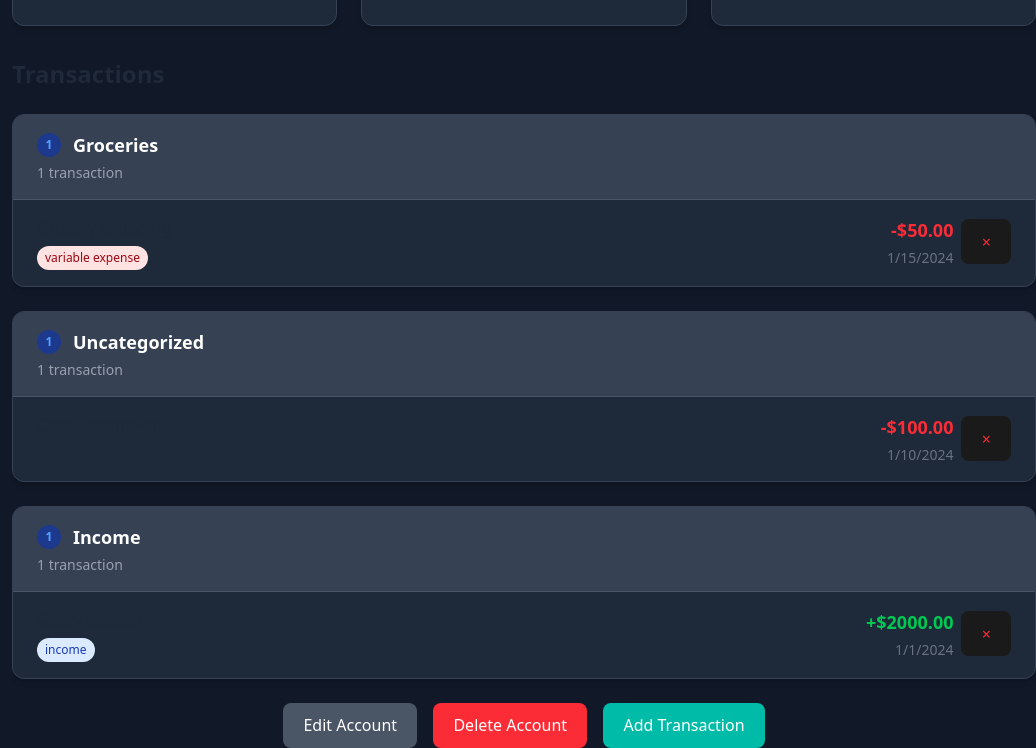
Test case: Account Component › toggles edit form when Edit Account button is clicked
(page scrolled)
Click the button "Edit Account" at (350, 725), box [283,702,417,747]
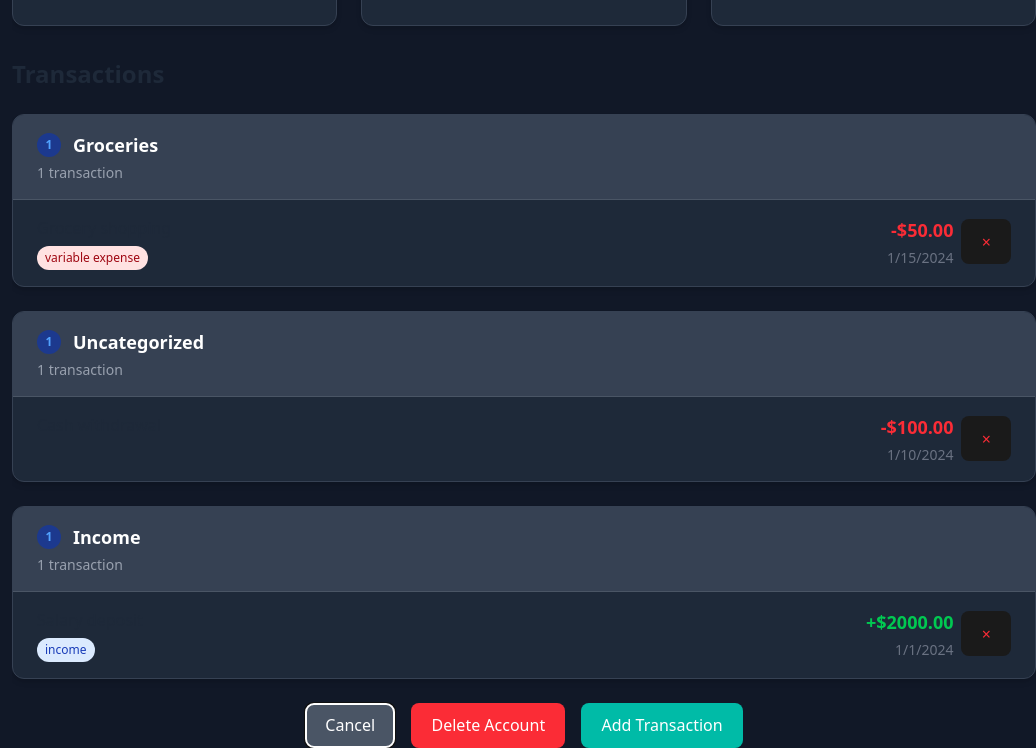
Expected: the button named "Edit Account" reads "Cancel"
Click the button named "Edit Account" at (350, 725), box [305,702,395,747]
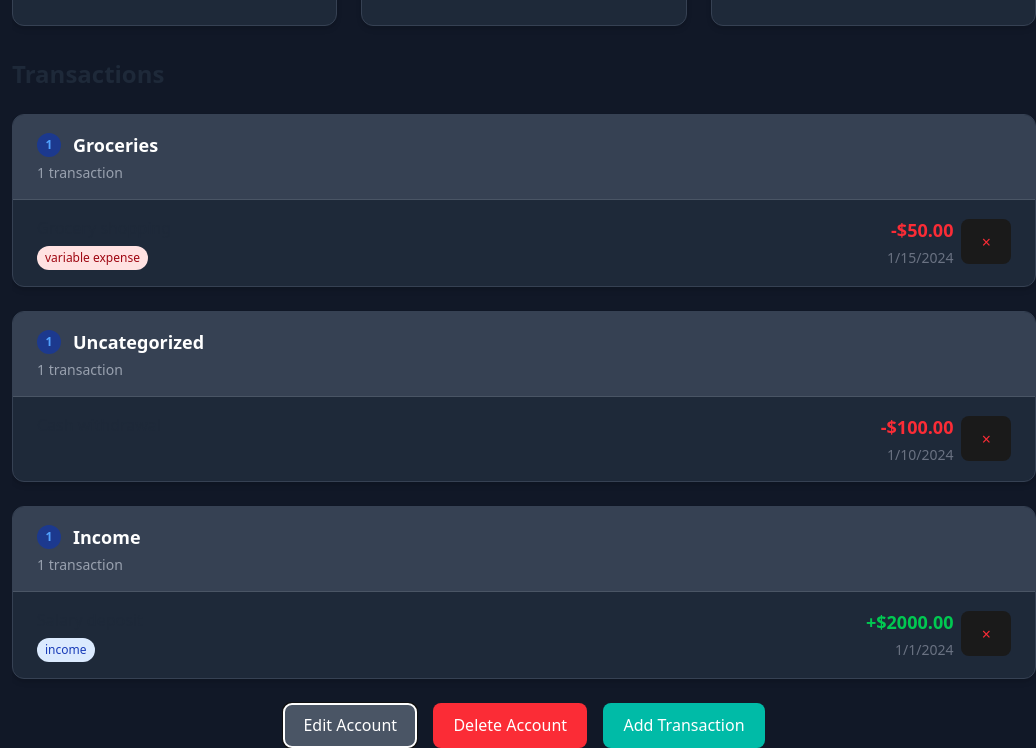
Expected: the button "Edit Account" is shown, [283,702,417,747]
